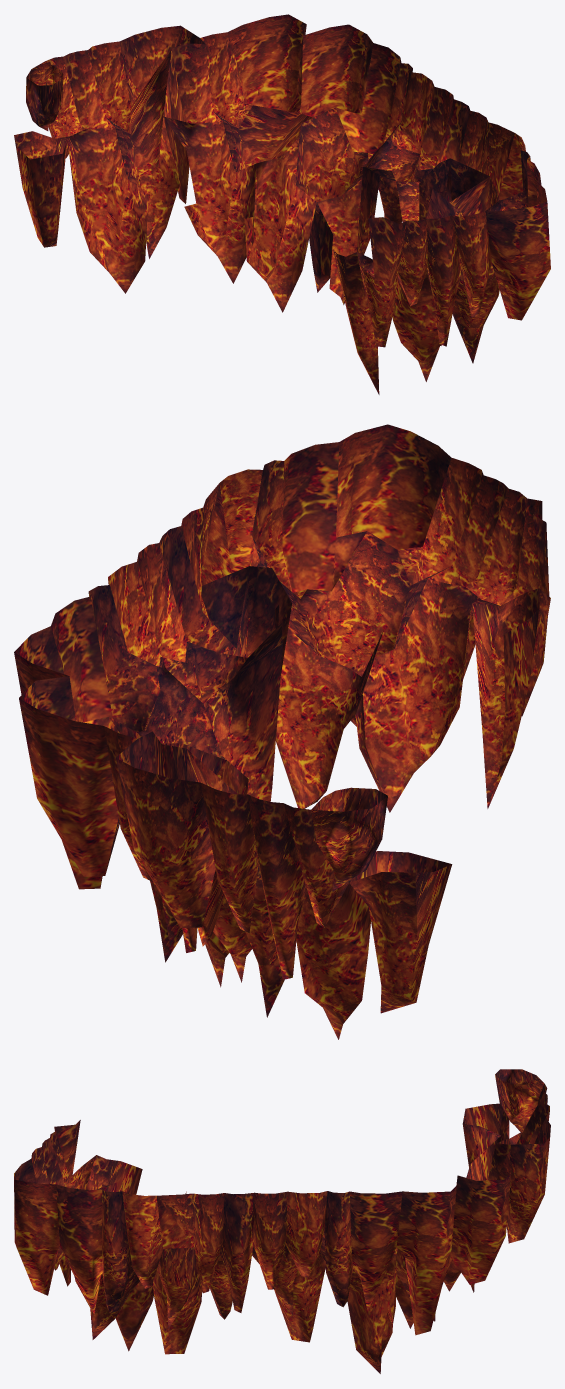
The model's file is Scene_rongyan_014.FBX.
3 views of the same model, one above another, from view 1: azimuth 30°, elevation 25°; view 2: azimuth 150°, elevation 25°; view 3: azimuth 270°, elevation 25° (orthographic). The views are drawn at different scales.
Parts seen in each view (by area): view 1: Scene_rongyan_014; view 2: Scene_rongyan_014; view 3: Scene_rongyan_014.
Part boxes in pixels (box(x1,y1,x2,y2)): Scene_rongyan_014: box(14, 14, 550, 394); Scene_rongyan_014: box(14, 424, 550, 1039); Scene_rongyan_014: box(14, 1069, 550, 1373).
Bounding box in the file's own units: 19.47 × 13.16 × 28.41.
